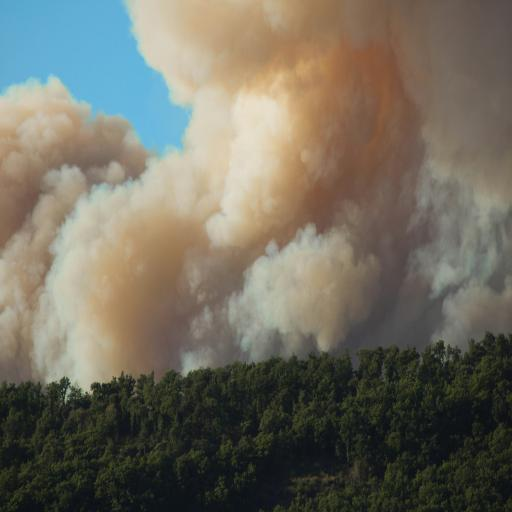smoke: (0, 0, 512, 373)
